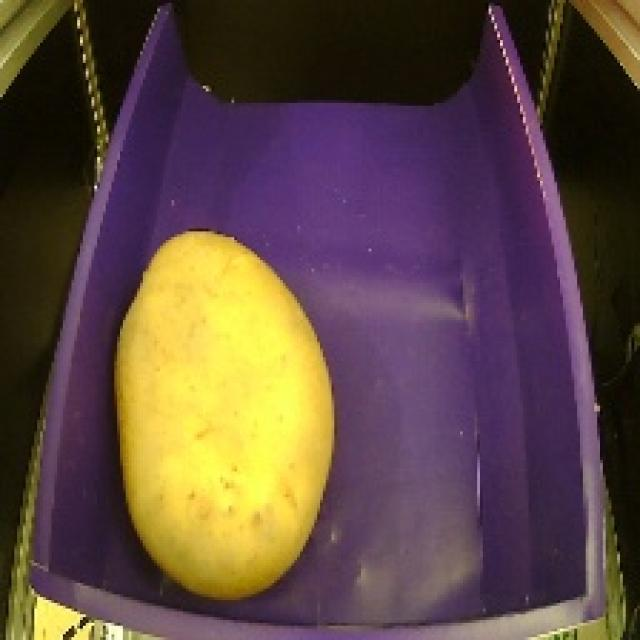full_potato: (85, 206, 351, 616)
